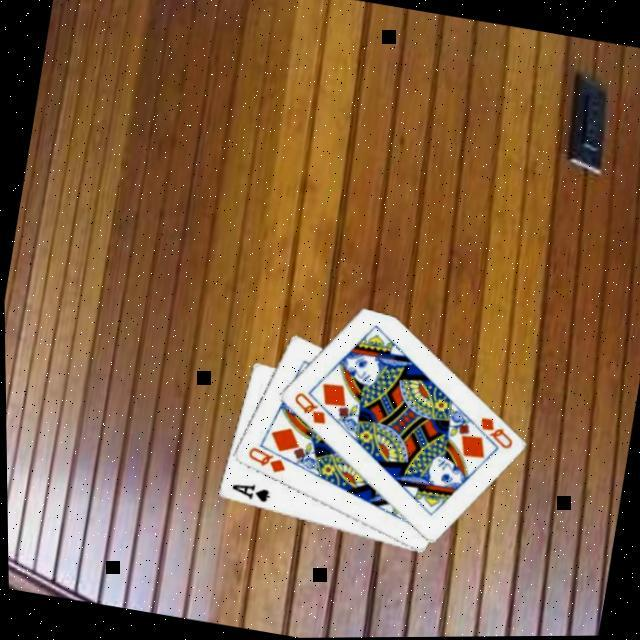AS: (225, 478, 272, 506)
QD: (470, 414, 517, 455), (286, 389, 331, 429), (241, 443, 289, 478)
